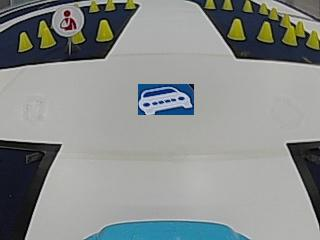cone: (227, 18, 246, 40), (96, 19, 114, 42), (39, 22, 56, 46), (258, 21, 274, 42), (283, 23, 297, 45), (18, 32, 32, 51), (306, 28, 319, 48), (71, 30, 85, 44), (88, 0, 99, 12), (203, 0, 216, 10), (123, 0, 136, 10), (105, 0, 116, 11), (242, 1, 253, 12), (222, 0, 233, 10)
patient: (52, 5, 84, 36)
